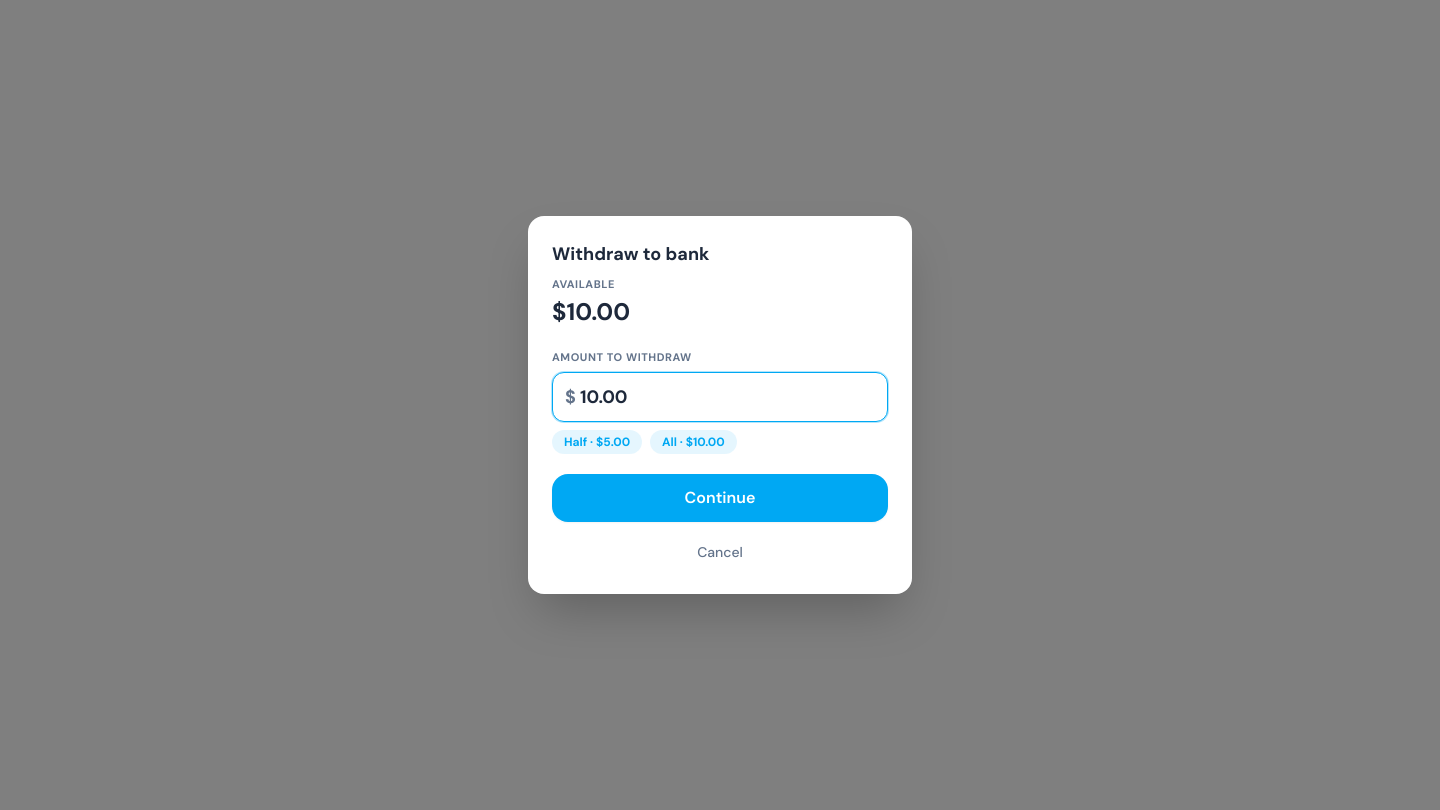
WithdrawSheet (F5) › blocks Continue when amount exceeds available balance
Replace the text in the field with test id "withdraw-sheet-amount-input" with "50" at [727, 397], box [580, 383, 875, 411]
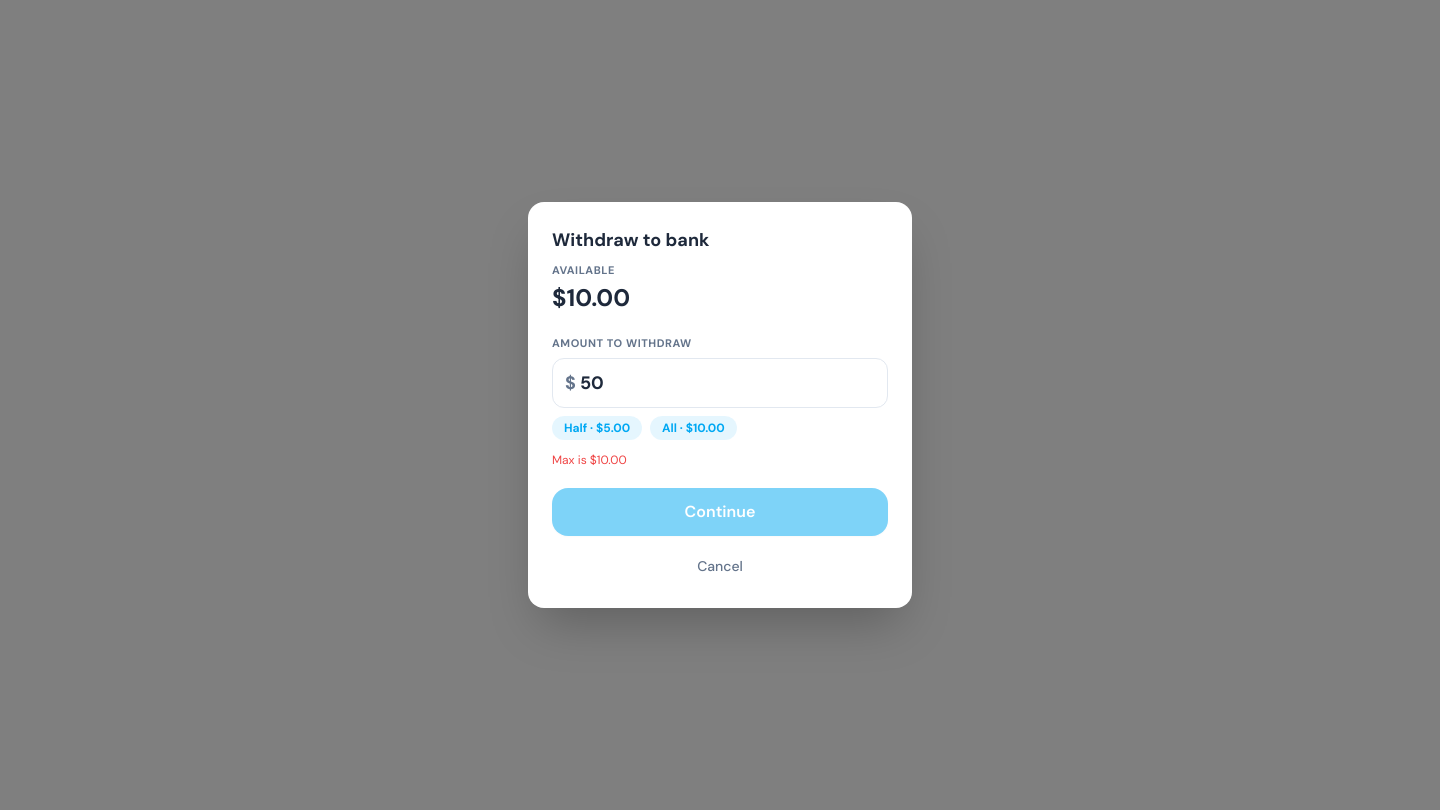
expect the text with test id "withdraw-sheet-validation" shows "Max is": met, box [552, 452, 627, 468]
expect the button with test id "withdraw-sheet-confirm" is disabled: met, box [552, 488, 888, 536]
